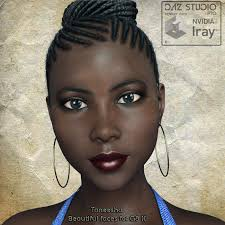no_mask: (42, 16, 174, 199)
